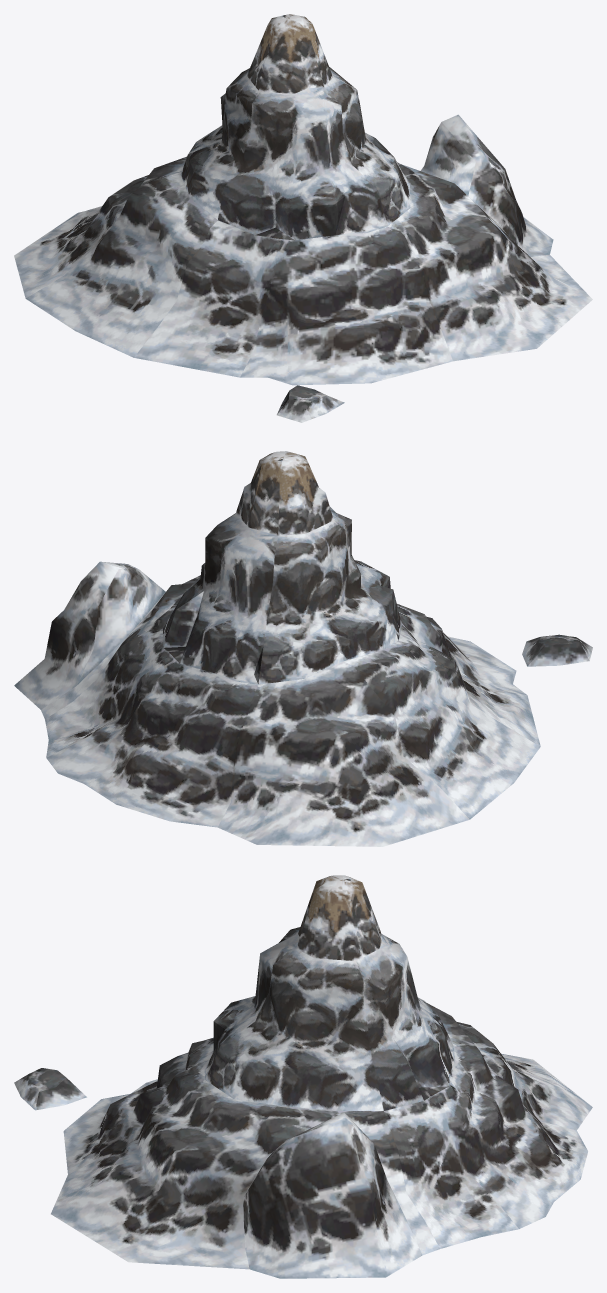
Rendered from 2005_Item_shitou_1.FBX.
3 views of the same model, one above another, from view 1: azimuth 30°, elevation 25°; view 2: azimuth 150°, elevation 25°; view 3: azimuth 270°, elevation 25° (orthographic). The views are drawn at different scales.
Parts seen in each view (by area): view 1: 2005_Item_shitou_1; view 2: 2005_Item_shitou_1; view 3: 2005_Item_shitou_1.
Part boxes in pixels (bbox=[...]): 2005_Item_shitou_1: bbox=[14, 14, 592, 422]; 2005_Item_shitou_1: bbox=[14, 451, 592, 846]; 2005_Item_shitou_1: bbox=[14, 875, 592, 1278].
Size of the model in its own units: 371 by 201 by 382.
